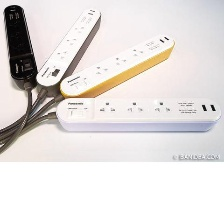three_eye_plug: (57, 32, 176, 106), (52, 95, 223, 137), (34, 6, 102, 99), (0, 1, 38, 94)
